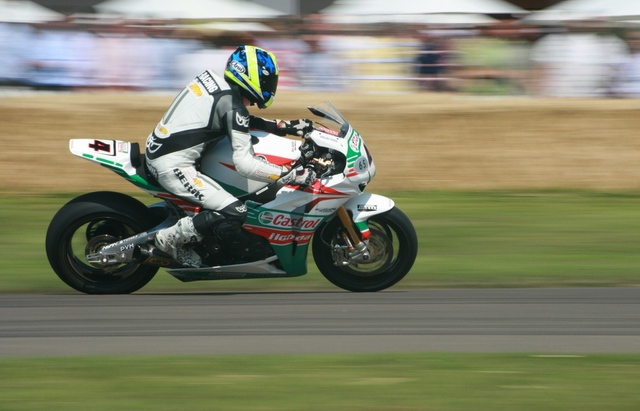helmet: (222, 38, 285, 107)
